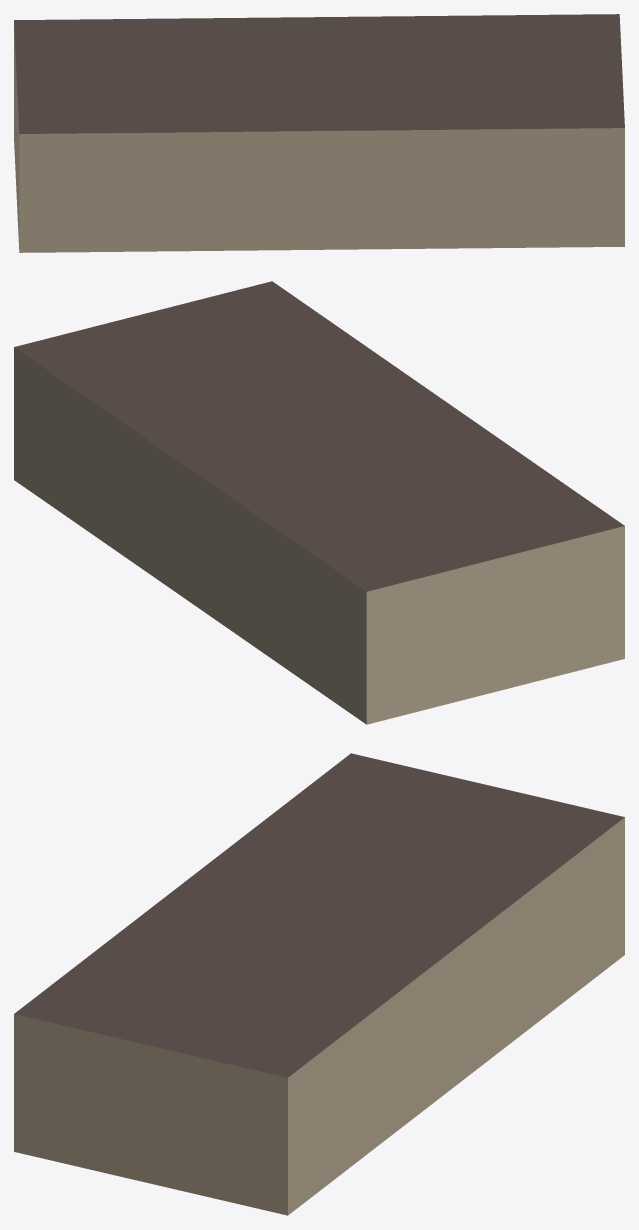
3 renders of one model, top to bottom at view 1: azimuth 30°, elevation 25°; view 2: azimuth 150°, elevation 25°; view 3: azimuth 270°, elevation 25°, orthographic. The views are drawn at different scales.
Visible parts, largest first — view 1: HP-w369549433; view 2: HP-w369549433; view 3: HP-w369549433.
Boxes of the visible parts, x1,y1,x2,y2 form: HP-w369549433: (14,14,624,252); HP-w369549433: (14,281,624,724); HP-w369549433: (14,753,624,1215).
Size of the model in its own units: 45.44 by 9 by 36.16.
